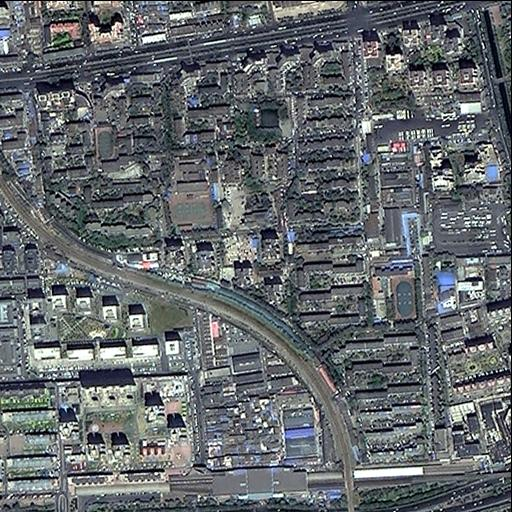school: (168, 156, 216, 240), (372, 260, 421, 327), (91, 120, 137, 173)
